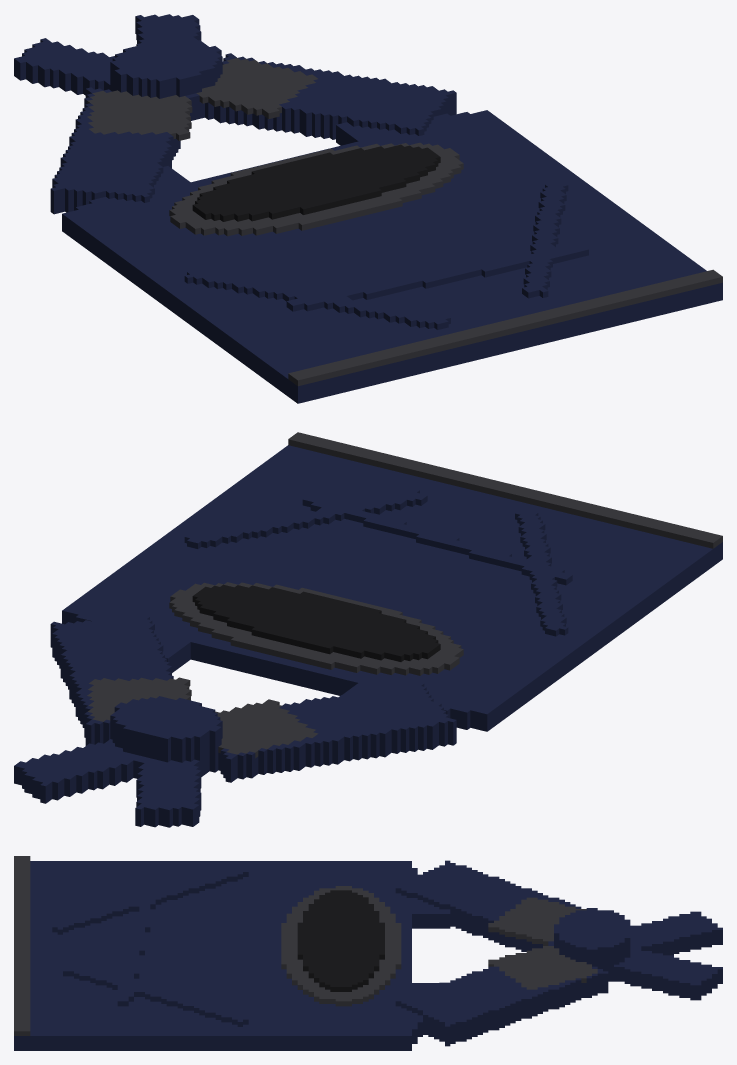
File: mask_rioter.glb
The picture shows the model from 3 angles, top to bottom: view 1: azimuth 30°, elevation 25°; view 2: azimuth 150°, elevation 25°; view 3: azimuth 270°, elevation 25°; orthographic projection. The views are drawn at different scales.
Visible parts, largest first — view 1: mask_rioter:compound; view 2: mask_rioter:compound; view 3: mask_rioter:compound.
Part boxes in pixels (x1=…): mask_rioter:compound: x1=14, y1=14, x2=722, y2=403; mask_rioter:compound: x1=14, y1=432, x2=722, y2=827; mask_rioter:compound: x1=14, y1=856, x2=722, y2=1050.
Size of the model in its own units: 0.304 by 0.028 by 0.52.
